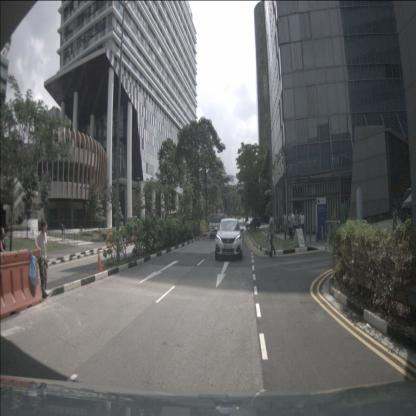barrier: (0, 249, 43, 319)
cone: (96, 249, 104, 274), (107, 236, 111, 249), (279, 224, 283, 234), (274, 225, 277, 234)
